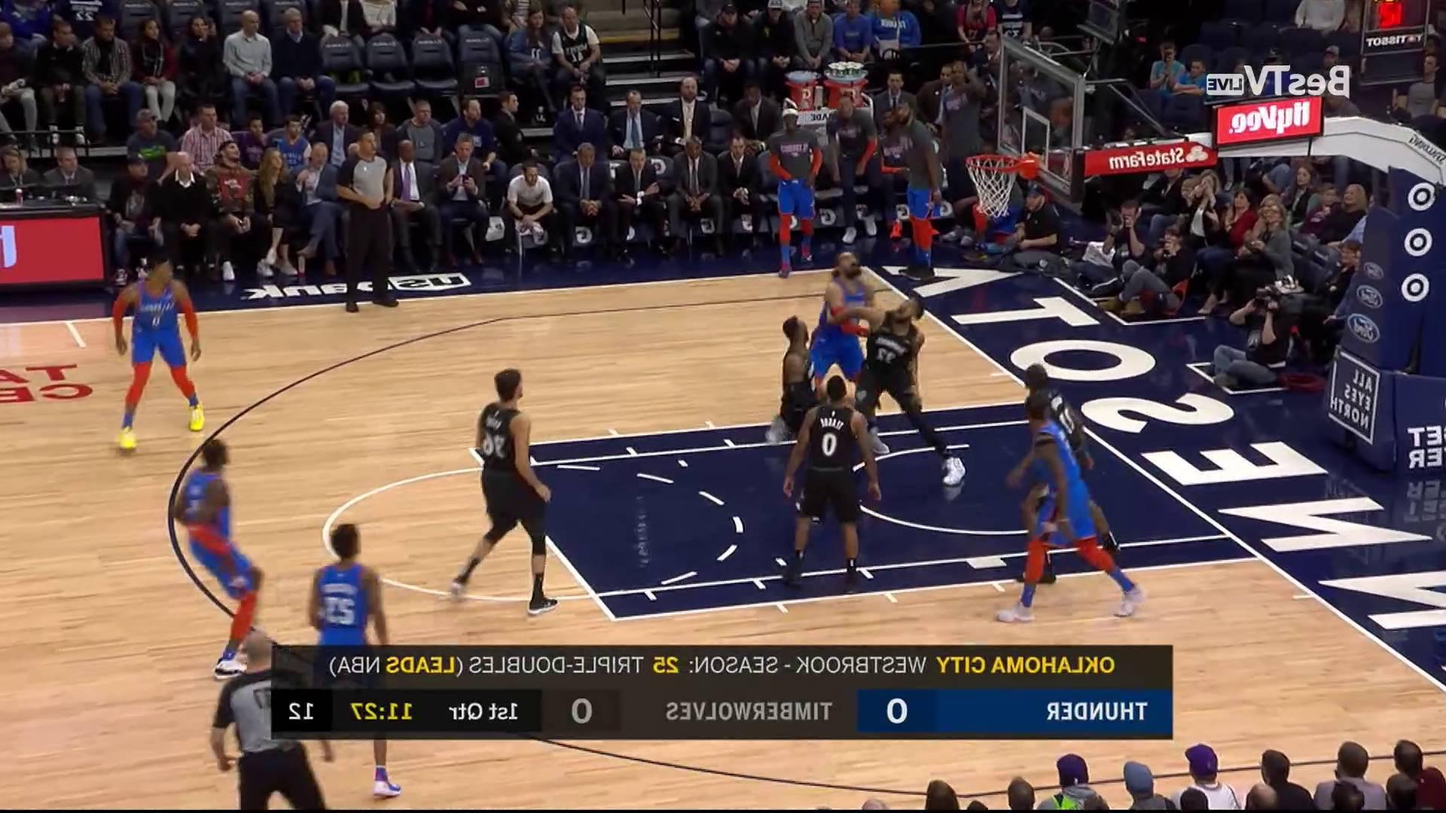basketball: (845, 162, 870, 183), (880, 0, 899, 15)
